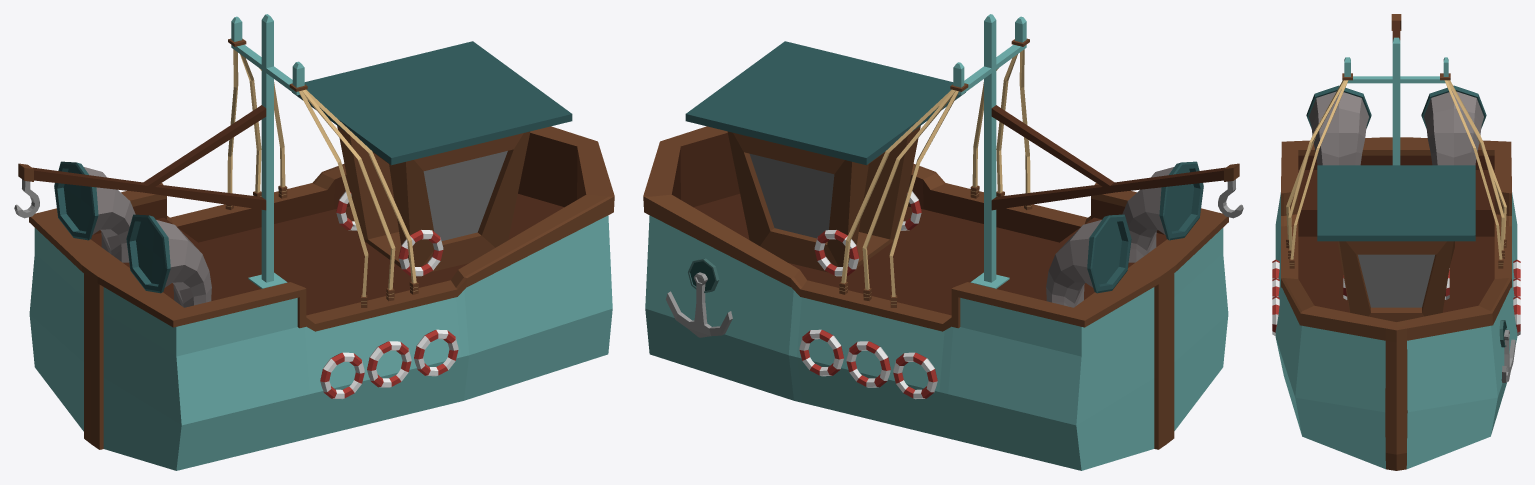
Rendered from BlueBoat.fbx.
The picture shows the model from 3 angles, left to right: view 1: azimuth 30°, elevation 25°; view 2: azimuth 150°, elevation 25°; view 3: azimuth 270°, elevation 25°; orthographic projection. The views are drawn at different scales.
Visible parts, largest first — view 1: BlueBoat; view 2: BlueBoat; view 3: BlueBoat.
Part boxes in pixels (<box>): BlueBoat: <box>14,14,614,470</box>; BlueBoat: <box>643,14,1243,470</box>; BlueBoat: <box>1272,14,1520,470</box>.
Size of the model in its own units: 1234 by 804 by 573.
